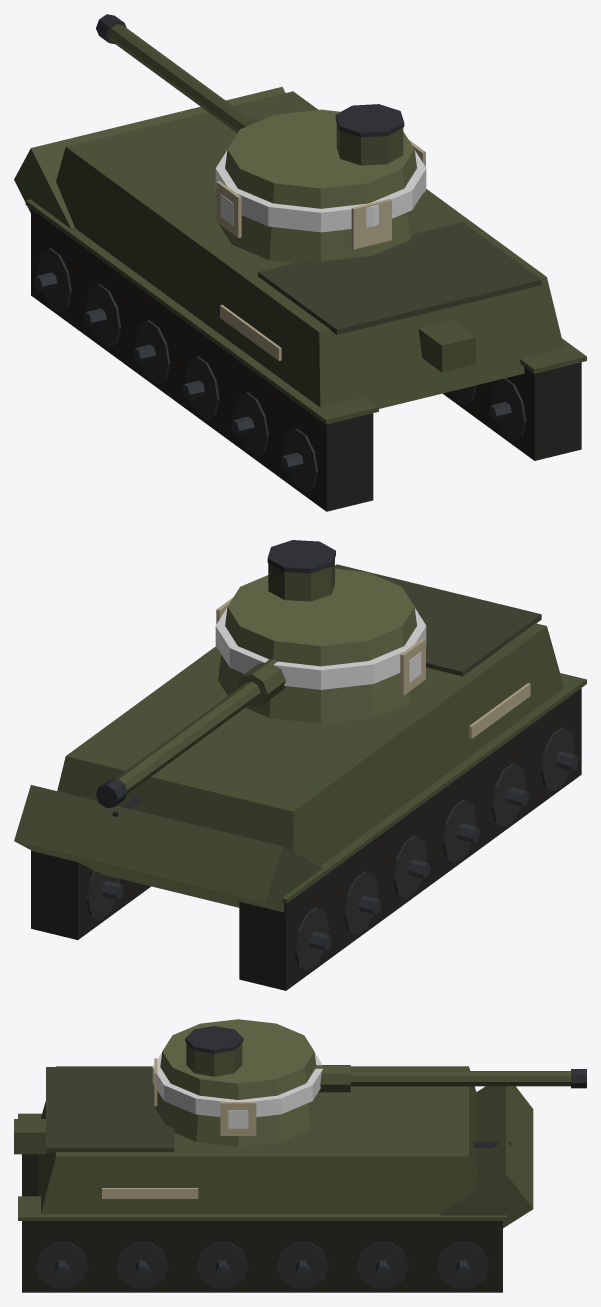
File: tank_c20.glb
3 views of the same model, one above another, from view 1: azimuth 30°, elevation 25°; view 2: azimuth 150°, elevation 25°; view 3: azimuth 270°, elevation 25° (orthographic). The views are drawn at different scales.
Parts seen in each view (by area): view 1: tank_c20; view 2: tank_c20; view 3: tank_c20.
Part boxes in pixels (x1,y1,x2,y2): tank_c20: (14,14,586,511); tank_c20: (14,540,586,990); tank_c20: (14,1019,586,1292).
Bounding box in the file's own units: 3.4 × 3 × 7.15.
